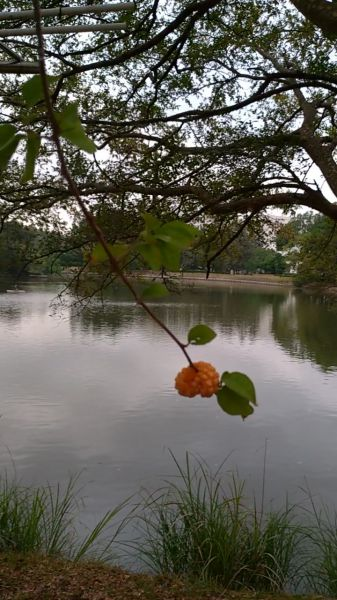eggs: (170, 356, 225, 403)
